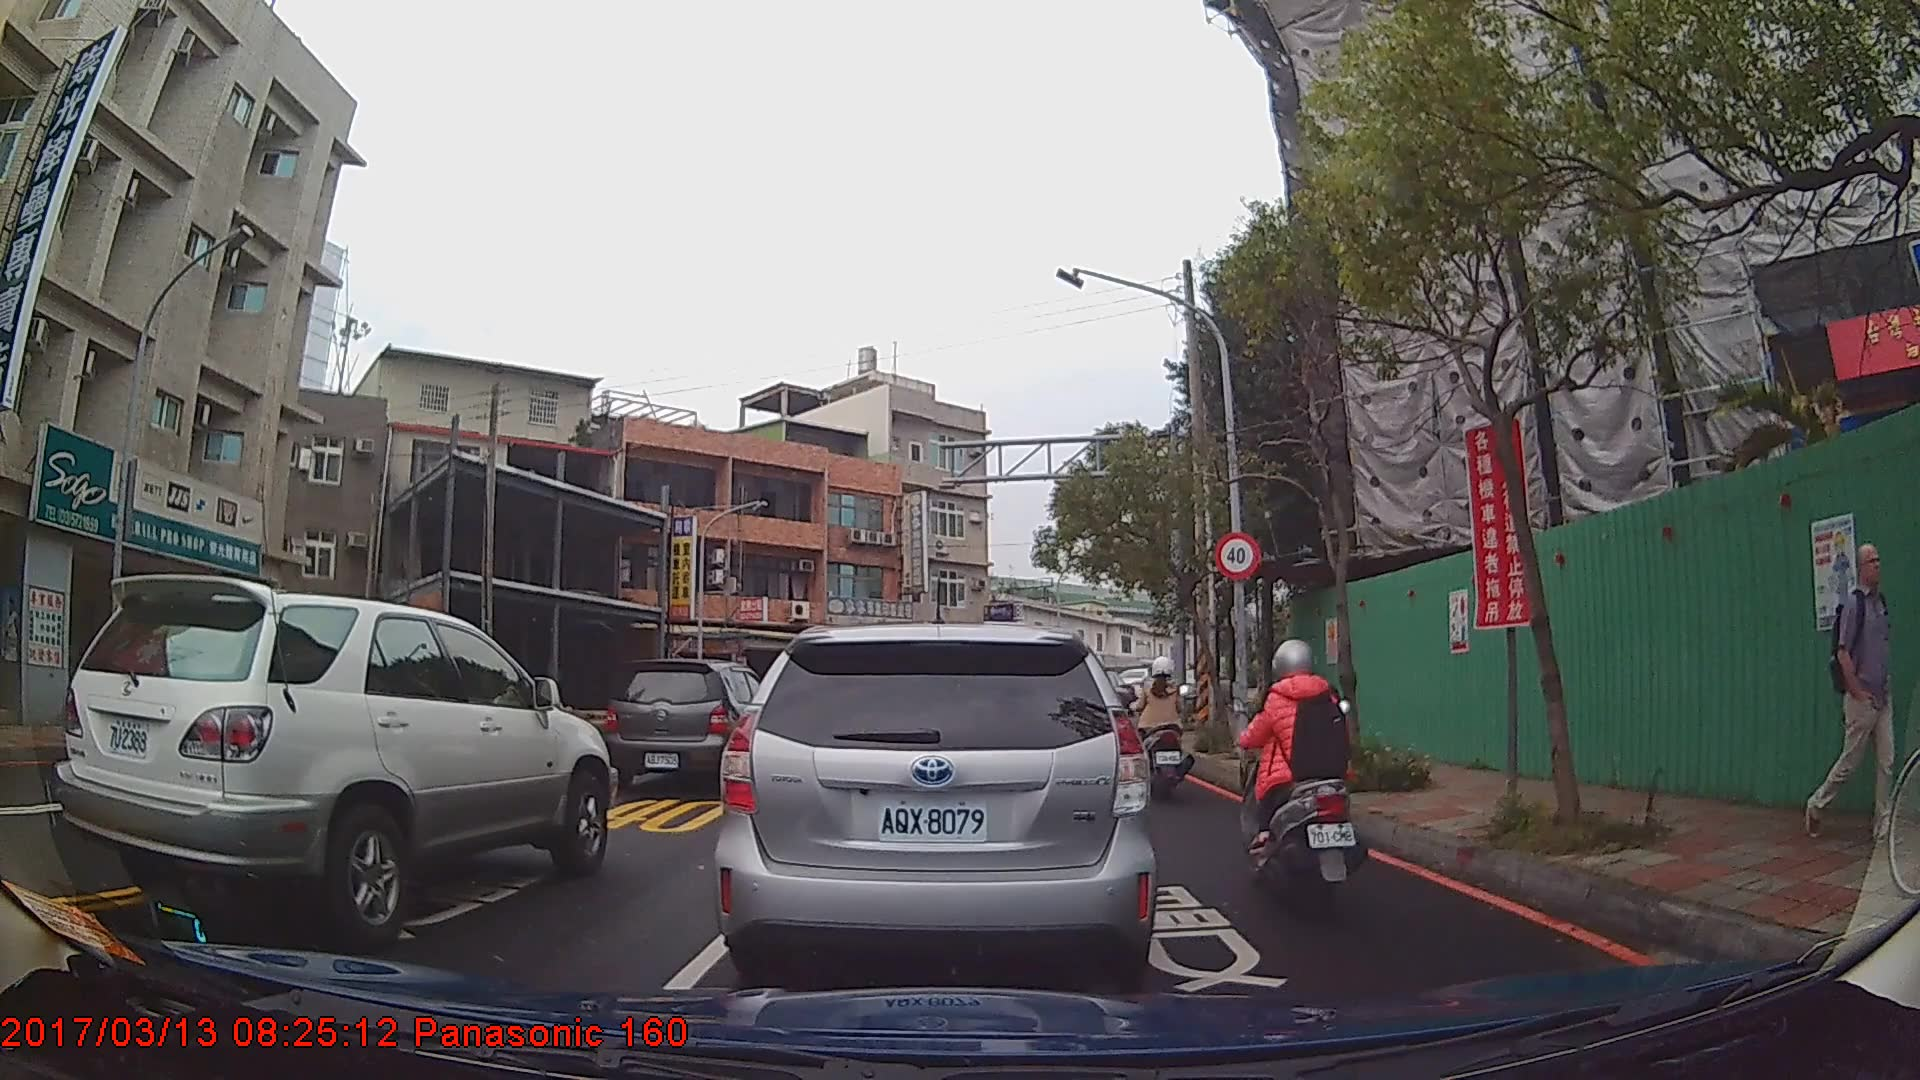pedestrian: (1812, 537, 1900, 843)
rider: (1231, 640, 1370, 918), (1135, 657, 1190, 796)
vehicle: (55, 572, 614, 943), (712, 620, 1158, 992), (605, 657, 784, 789)
